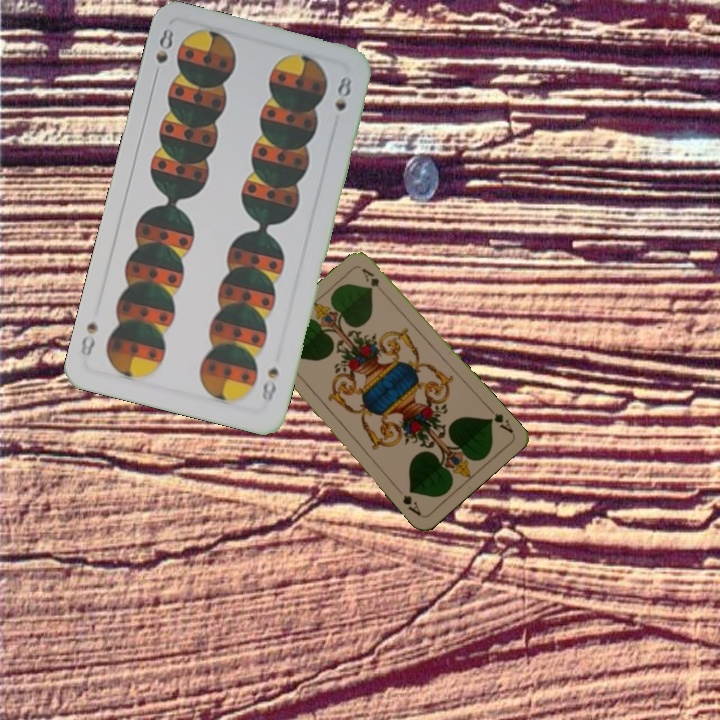GA: (484, 403, 516, 436)
S8: (149, 24, 176, 82), (257, 363, 281, 405)
